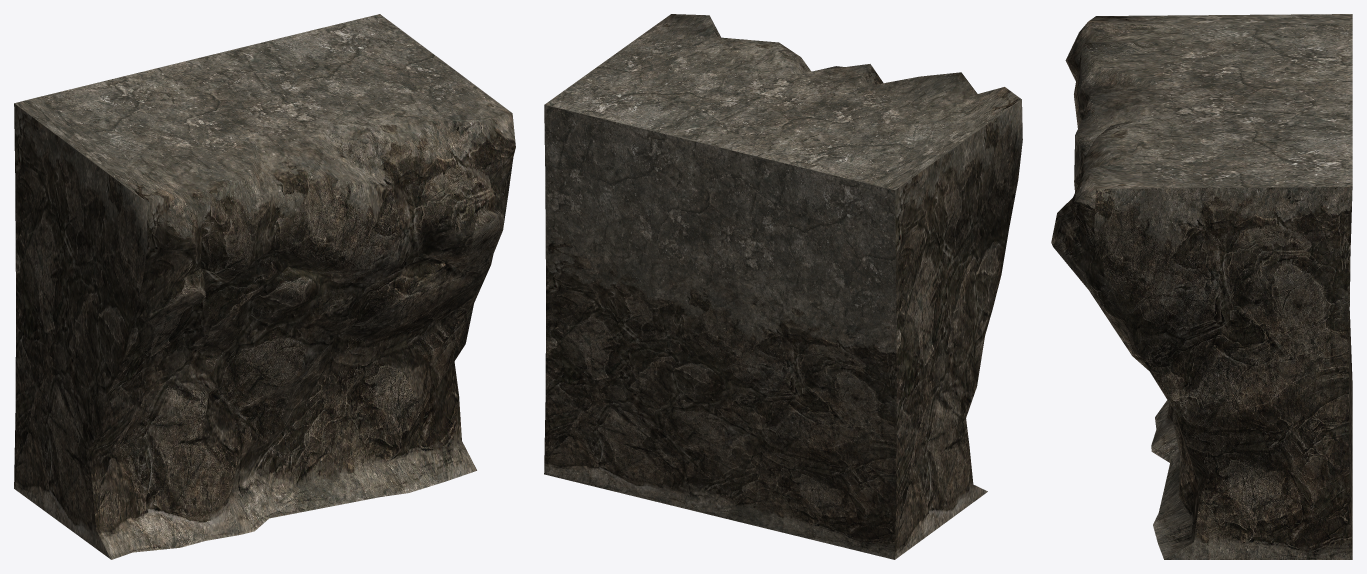
Rendered from SM_Env_Fire_Cliffs_CliffWall_02a.FBX.
The picture shows the model from 3 angles, left to right: view 1: azimuth 30°, elevation 25°; view 2: azimuth 150°, elevation 25°; view 3: azimuth 270°, elevation 25°; orthographic projection. The views are drawn at different scales.
Parts seen in each view (by area): view 1: SM_Env_Fire_Cliffs_CliffWall_02a; view 2: SM_Env_Fire_Cliffs_CliffWall_02a; view 3: SM_Env_Fire_Cliffs_CliffWall_02a.
Boxes of the visible parts, <box> form: SM_Env_Fire_Cliffs_CliffWall_02a: <box>14,14,515,559</box>; SM_Env_Fire_Cliffs_CliffWall_02a: <box>544,14,1022,559</box>; SM_Env_Fire_Cliffs_CliffWall_02a: <box>1051,14,1352,559</box>.
Size of the model in its own units: 1020 by 752 by 1038.
